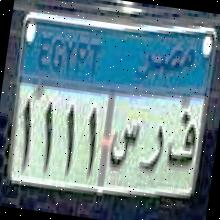1: (78, 101, 104, 184), (56, 100, 82, 181), (35, 97, 61, 174), (13, 96, 38, 176)
faa: (164, 111, 202, 178)
raa: (135, 120, 169, 186)
seen: (104, 113, 142, 183)
